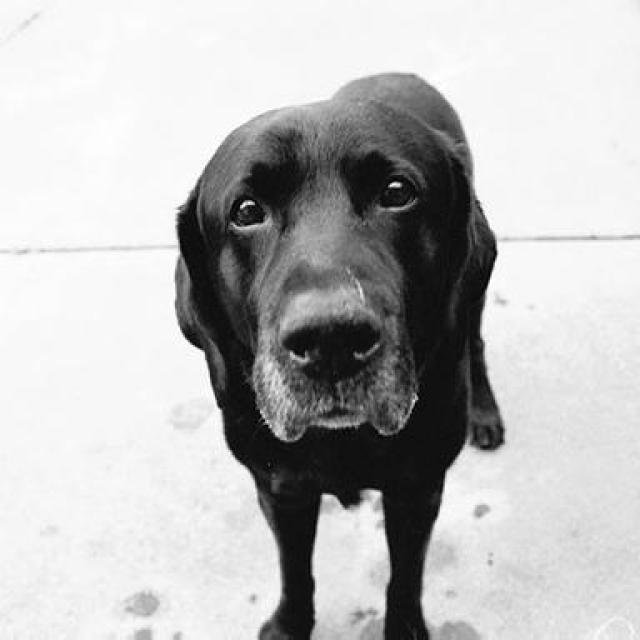sad: (157, 31, 518, 640)
